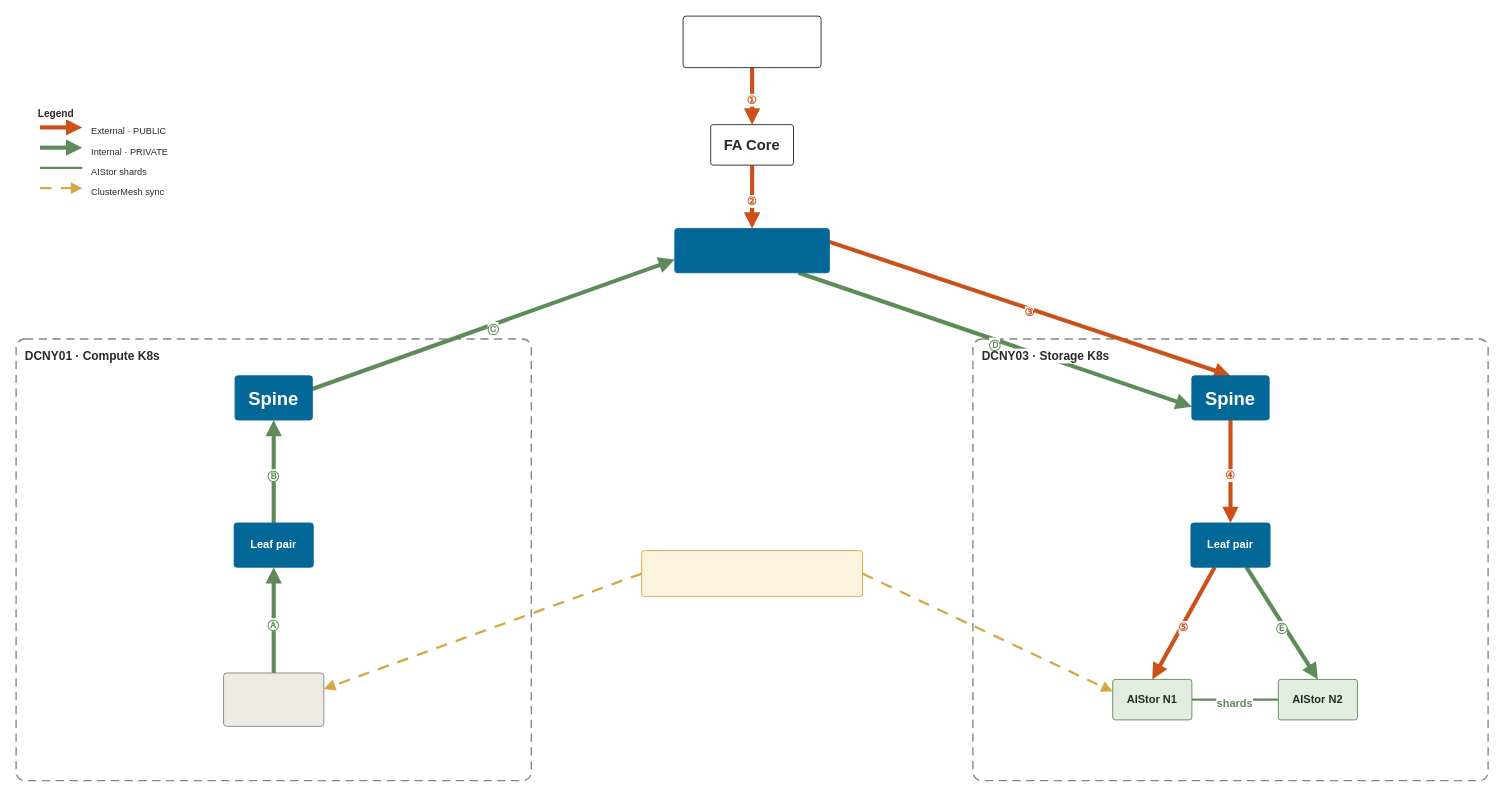
Image size: 1505x798. Some labels were removed from this diagram. The shapes that lost their labels are listed below. From the top down, each one's centre as x and y in pixels, then its label:
pixel 751 41: External client
pixel 751 250: Super Spine (Border)
pixel 751 573: ClusterMesh
pixel 273 699: Compute node ETL pod
